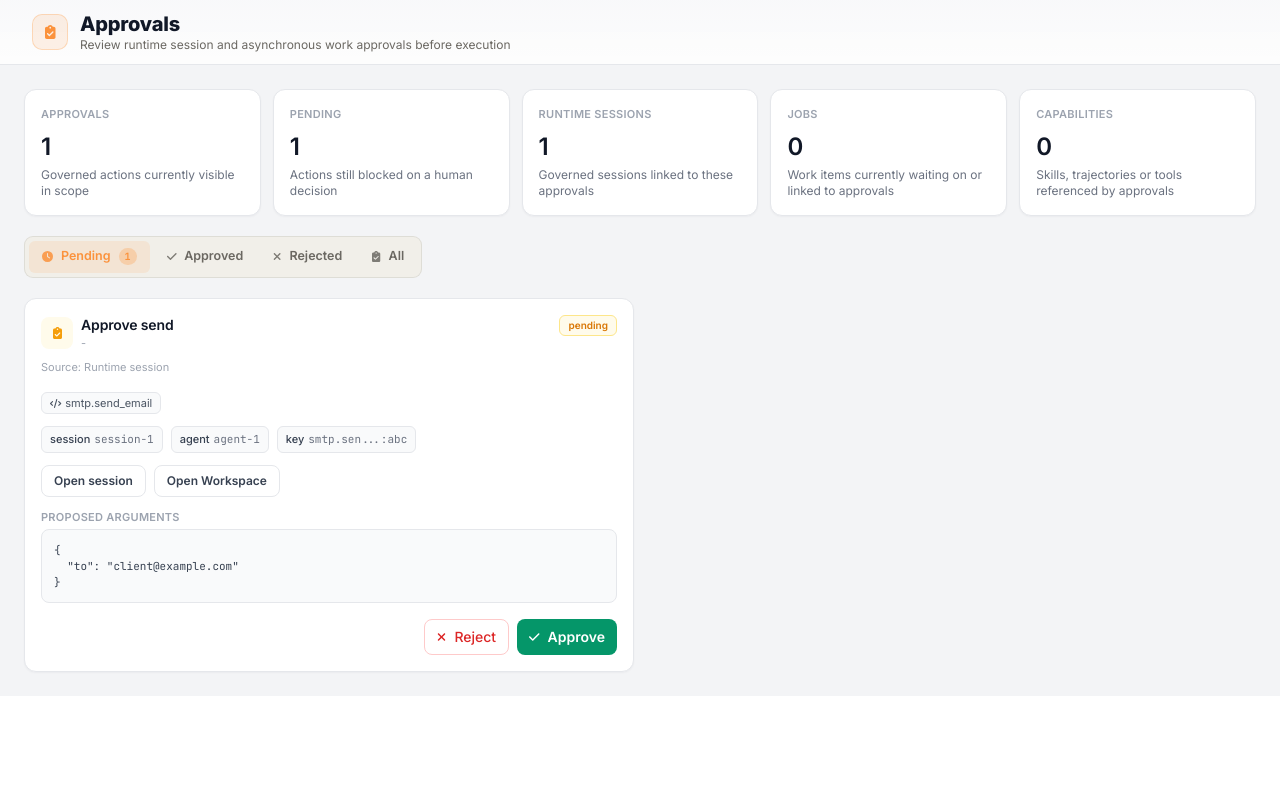
Test: Approvals page › stores session resume state after approving a runtime session approval
This screenshot has width=1280, height=800.
Click the button "Approve".
click(567, 637)  # box [517,619,617,655]
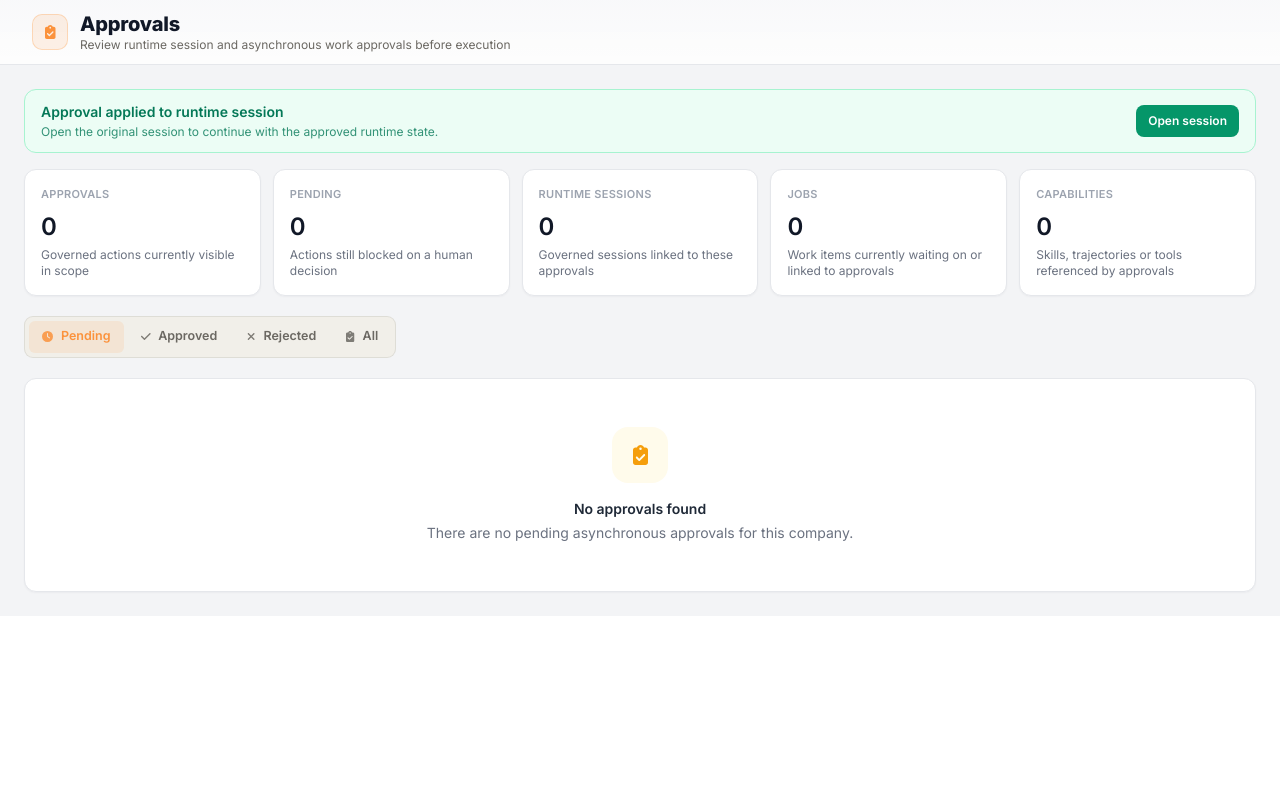
Expected: the button "Open session" is shown, [1136,105,1239,137]
Expected: the text "Approval applied to runtime session" is shown, [41,103,284,120]
